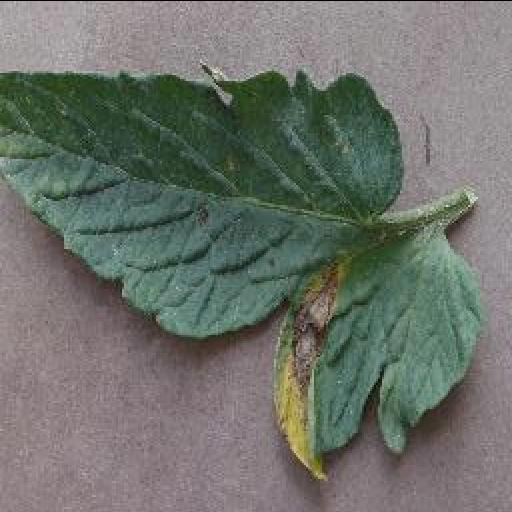disease_tomato: (0, 62, 484, 480)
